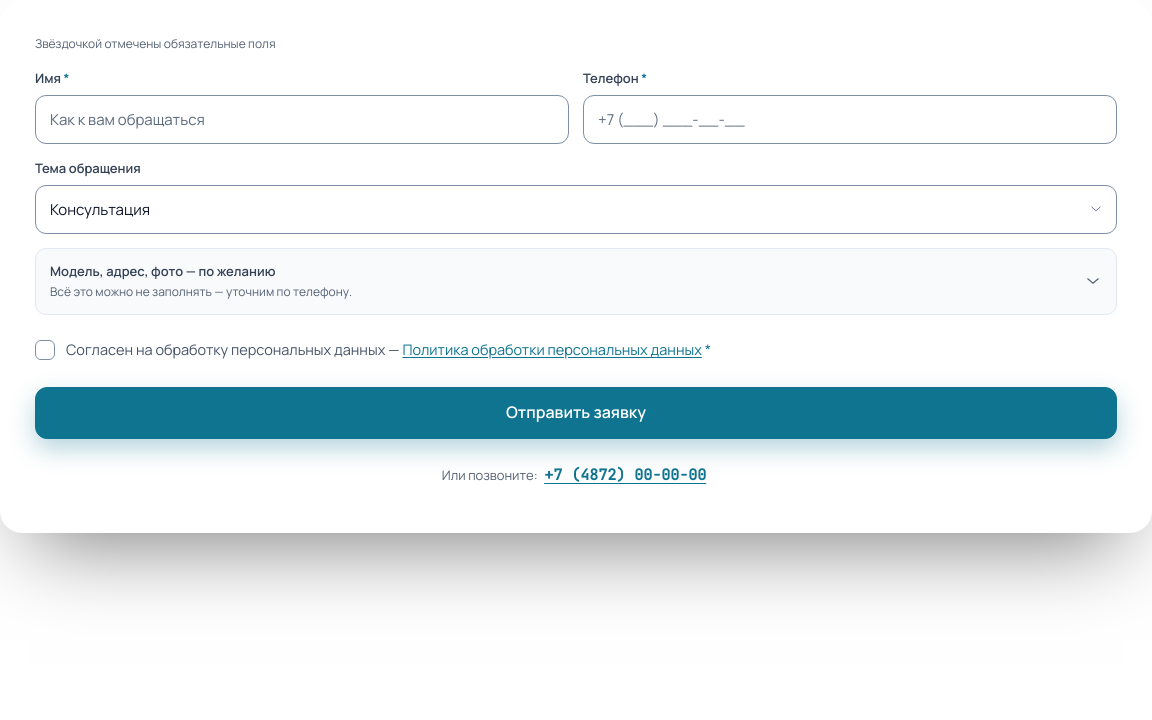
Test: LeadForm › без согласия на обработку данных не отправляется
The width and height of the screenshot is (1152, 720).
Type "Ирина" into the field labelled "Имя *" at (302, 119), box [35,95,569,144]
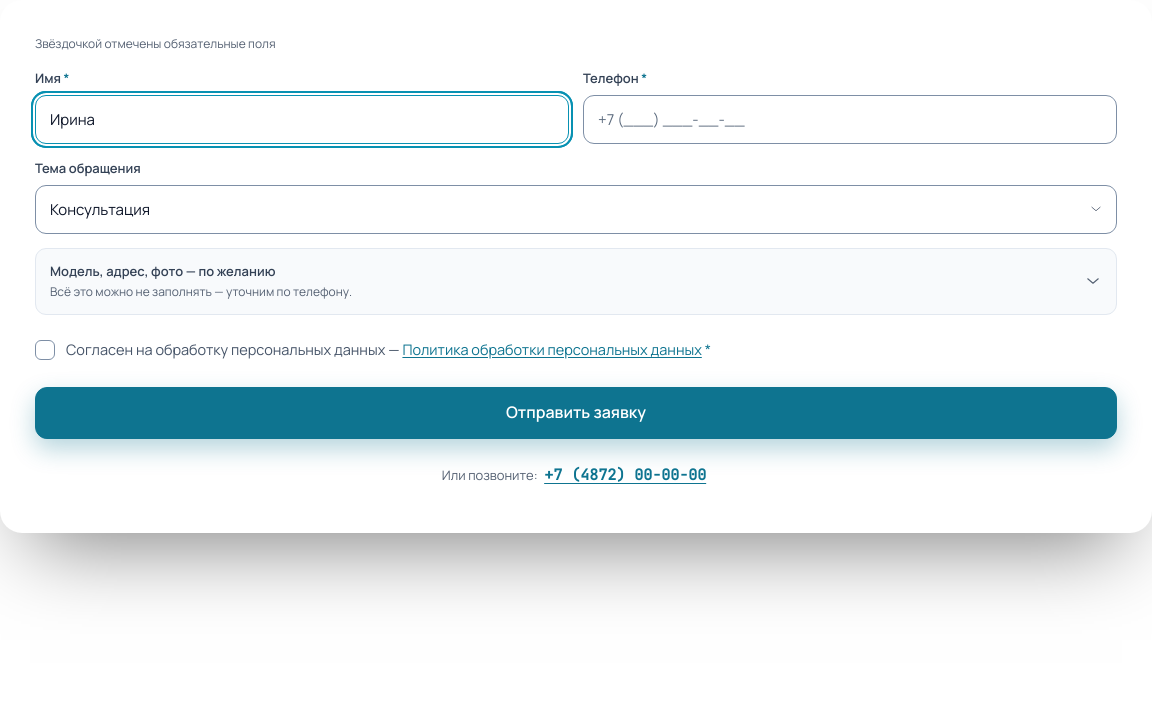
Type "+7 900 123-45-67" into the field labelled "Телефон *" at (850, 119), box [583,95,1117,144]
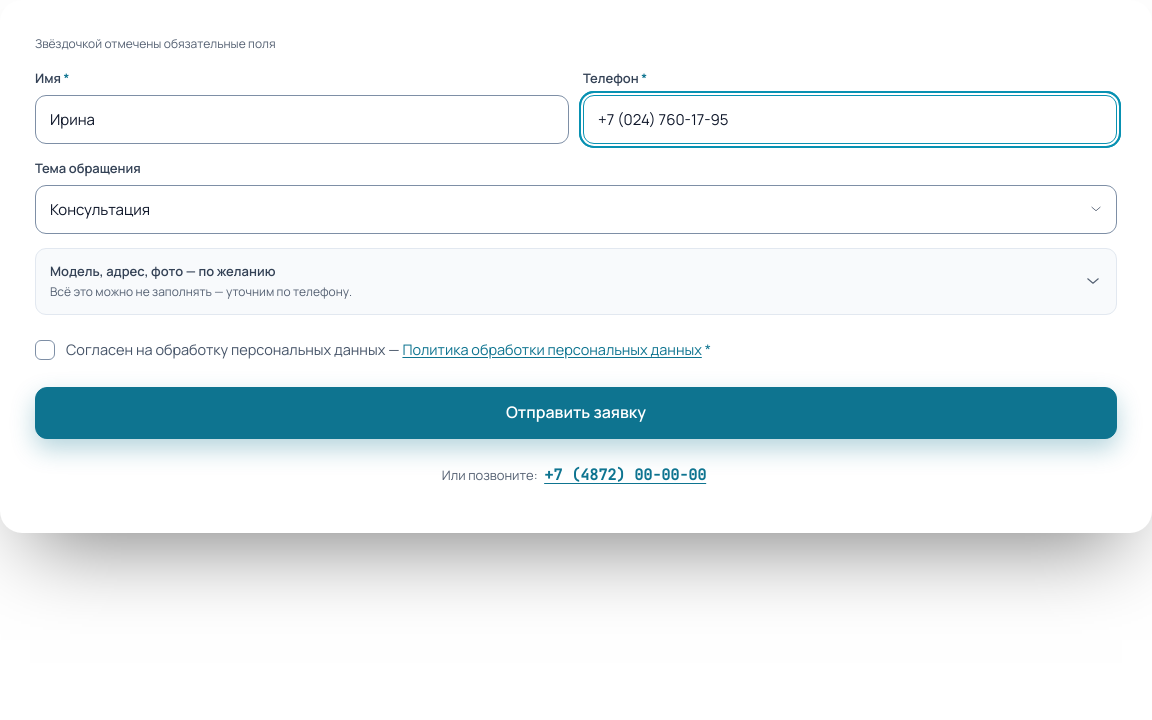
Click the button "Отправить заявку" at (576, 413), box [35,387,1117,439]
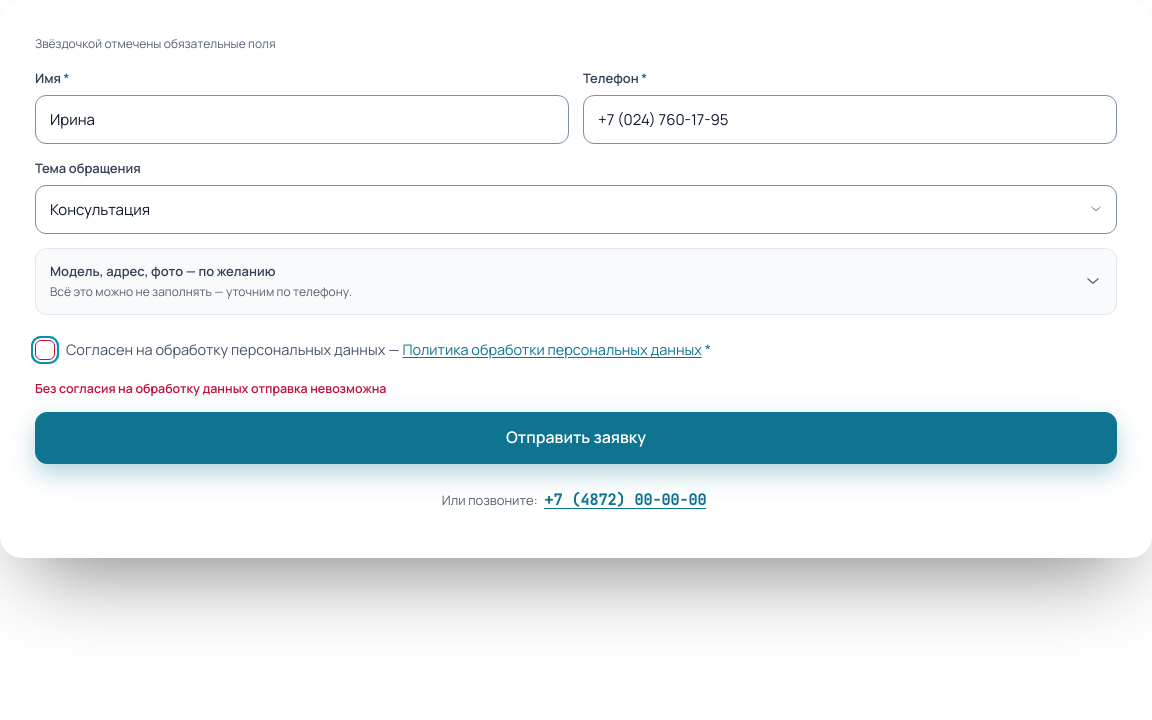
Expected: the text "Без согласия на обработку данных отправка невозможна" is shown, [35,380,386,397]
